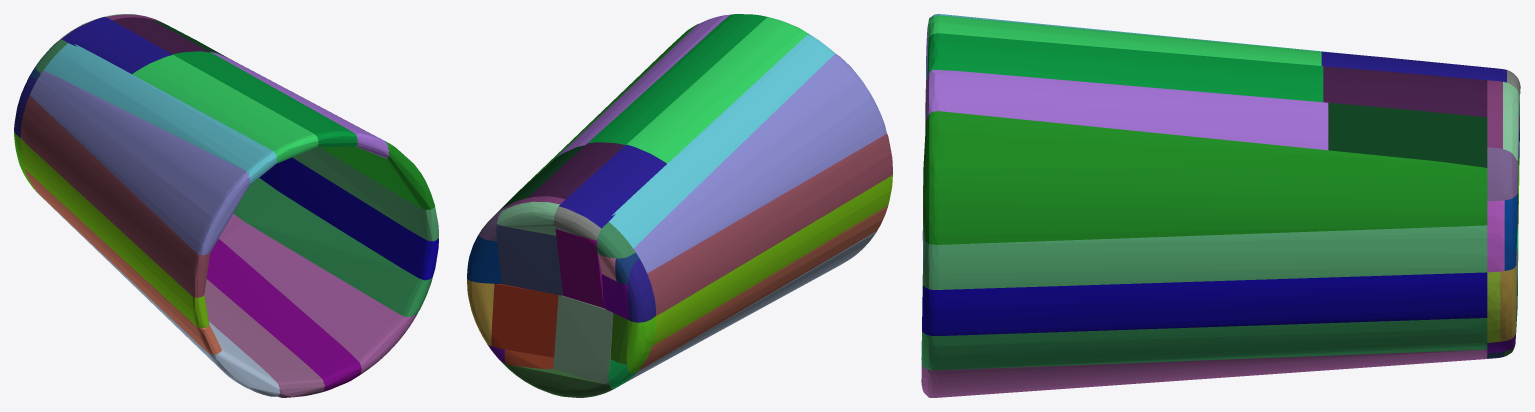
Rendered from coacd_collision.obj.
The picture shows the model from 3 angles, left to right: view 1: azimuth 30°, elevation 25°; view 2: azimuth 150°, elevation 25°; view 3: azimuth 270°, elevation 25°; orthographic projection. The views are drawn at different scales.
Visible parts, largest first — view 1: geometry_12, geometry_7, geometry_13, geometry_10, geometry_2, geometry_11, geometry_5, geometry_36, geometry_4, geometry_41, geometry_33, geometry_3 (+7 smaller); view 2: geometry_12, geometry_13, geometry_2, geometry_36, geometry_4, geometry_33, geometry_9, geometry_0, geometry_15, geometry_20, geometry_16, geometry_14 (+18 smaller); view 3: geometry_8, geometry_3, geometry_5, geometry_10, geometry_40, geometry_33, geometry_7, geometry_25, geometry_36, geometry_26, geometry_20, geometry_1 (+7 smaller).
Boxes of the visible parts, x1,y1,x2,y2 form: geometry_12: (29,70,249,255); geometry_7: (218,213,417,374); geometry_13: (20,96,210,297); geometry_10: (233,178,432,317); geometry_2: (43,43,276,185); geometry_11: (206,239,361,391); geometry_5: (259,157,438,280); geometry_36: (132,55,318,163); geometry_4: (20,138,209,327); geometry_41: (204,279,324,397); geometry_33: (173,51,357,146); geometry_3: (292,147,438,241); geometry_12: (633,54,886,273); geometry_13: (647,133,892,315); geometry_2: (609,34,835,248); geometry_36: (627,17,809,163); geometry_4: (652,174,892,345); geometry_33: (588,14,767,144); geometry_9: (638,205,888,370); geometry_0: (553,295,613,384); geometry_15: (491,283,558,357); geometry_20: (559,144,666,228); geometry_16: (496,224,563,295); geometry_14: (555,229,603,307); geometry_8: (923,111,1487,244); geometry_3: (922,225,1487,289); geometry_5: (922,272,1487,335); geometry_10: (921,318,1487,370); geometry_40: (925,69,1328,150); geometry_33: (927,33,1323,102); geometry_7: (921,349,1487,397); geometry_25: (1328,103,1487,167); geometry_36: (928,15,1321,65); geometry_26: (1323,66,1487,117); geometry_20: (1321,51,1506,82); geometry_1: (1487,147,1518,201).
Bounding box in the file's own units: 79.22 × 79.12 × 123.
